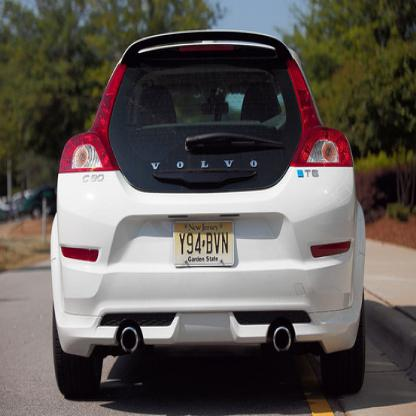Vehicle: (54, 32, 370, 404)
